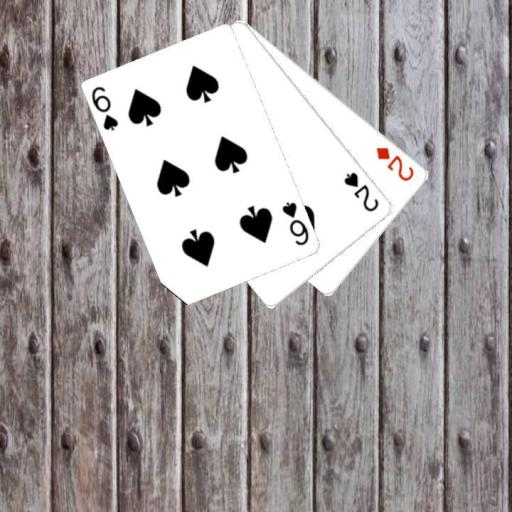2D: (373, 144, 416, 183)
2S: (341, 169, 381, 214)
6S: (279, 199, 311, 248), (89, 83, 120, 132)
